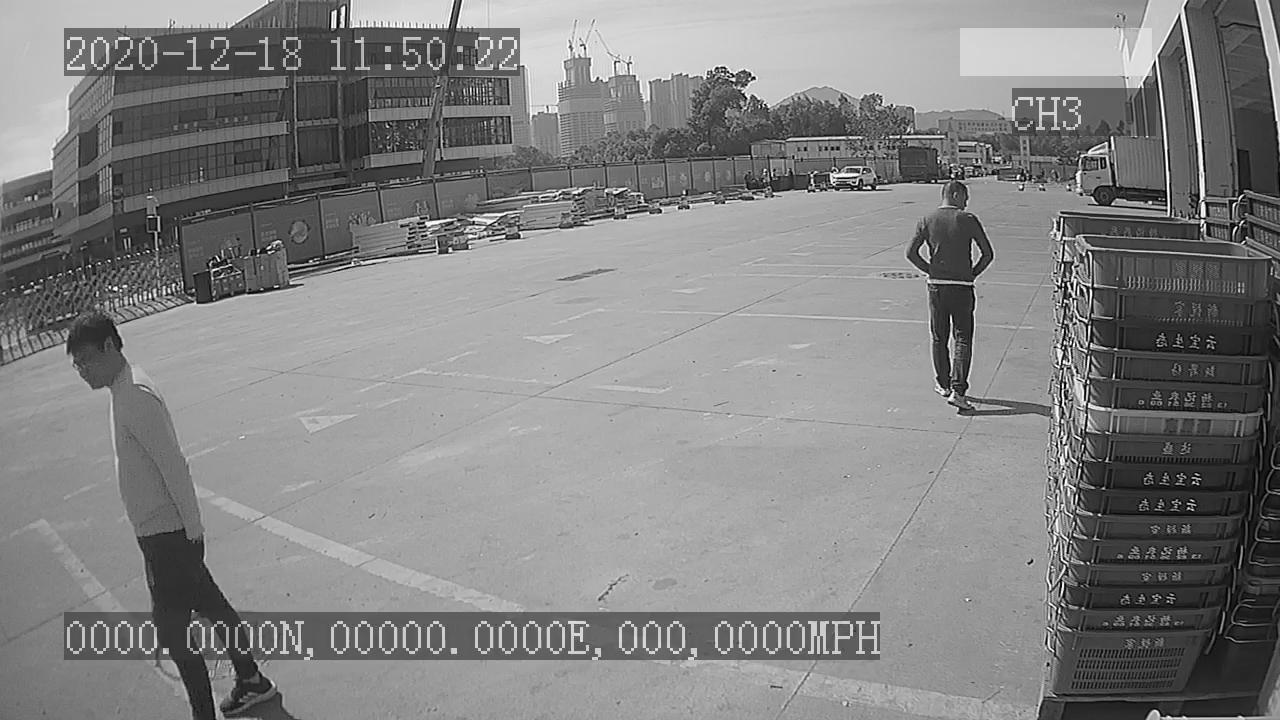person: (902, 176, 1002, 415)
